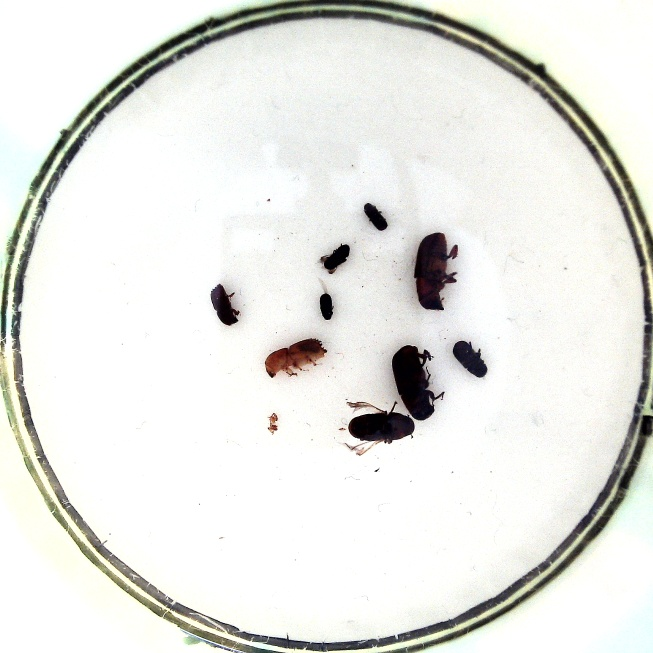armandi: (451, 336, 490, 380)
boerner: (263, 336, 334, 380)
coleoptera: (314, 240, 353, 276), (361, 196, 390, 233), (316, 277, 336, 322)
leconte: (340, 395, 418, 456), (388, 342, 446, 421), (413, 230, 463, 314)
linnaeus: (208, 280, 241, 326)
